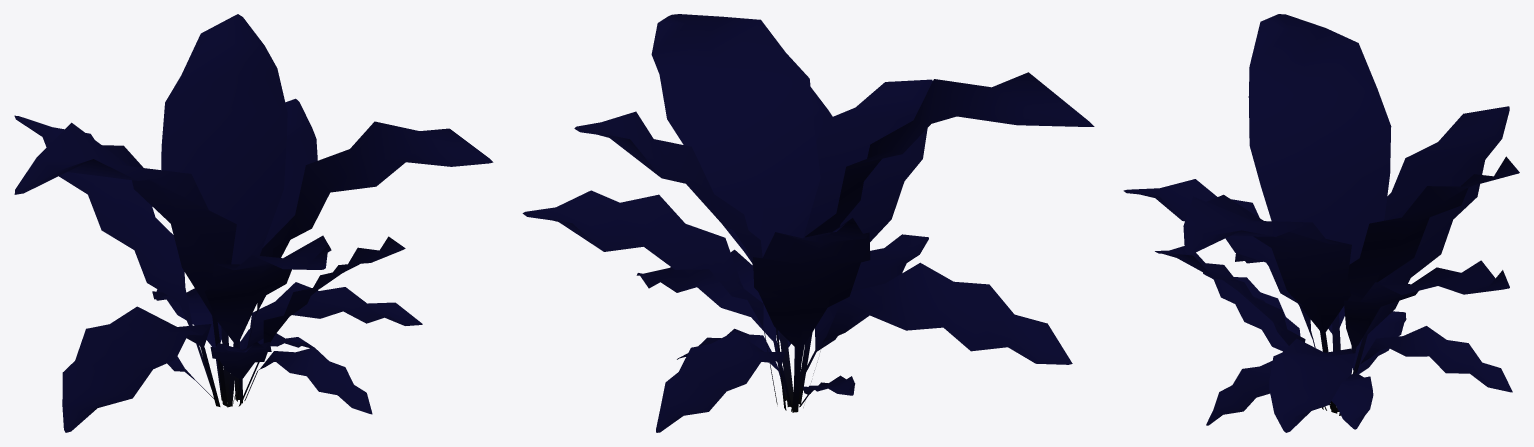
File: SM_Foliage_PalmPlantB_06.fbx
3 views of the same model, side by side, from view 1: azimuth 30°, elevation 25°; view 2: azimuth 150°, elevation 25°; view 3: azimuth 270°, elevation 25° (orthographic). The views are drawn at different scales.
Visible parts, largest first — view 1: SM_Foliage_PalmPlantB_06; view 2: SM_Foliage_PalmPlantB_06; view 3: SM_Foliage_PalmPlantB_06.
Part boxes in pixels (box(x1,y1,x2,y2)): SM_Foliage_PalmPlantB_06: box(14, 14, 493, 432); SM_Foliage_PalmPlantB_06: box(522, 14, 1094, 432); SM_Foliage_PalmPlantB_06: box(1123, 14, 1519, 432).
Bounding box in the file's own units: 139 × 115 × 98.48.
